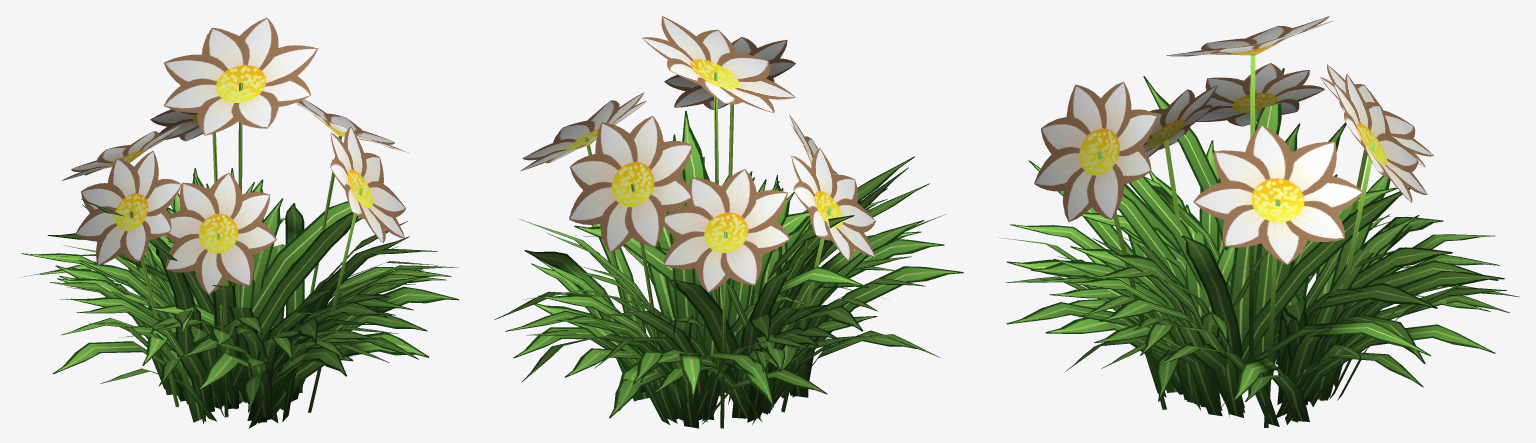
File: mm7_deco_flower09.glb
The picture shows the model from 3 angles, left to right: view 1: azimuth 30°, elevation 25°; view 2: azimuth 150°, elevation 25°; view 3: azimuth 270°, elevation 25°; orthographic projection. The views are drawn at different scales.
Parts seen in each view (by area): view 1: Plant; view 2: Plant; view 3: Plant.
Part boxes in pixels (left/top/right/bottom): Plant: left=19, top=17, right=458, bottom=428; Plant: left=494, top=16, right=963, bottom=428; Plant: left=999, top=16, right=1519, bottom=427.
Size of the model in its own units: 1.51 by 1.27 by 1.55.
1 material, 1 textured.
